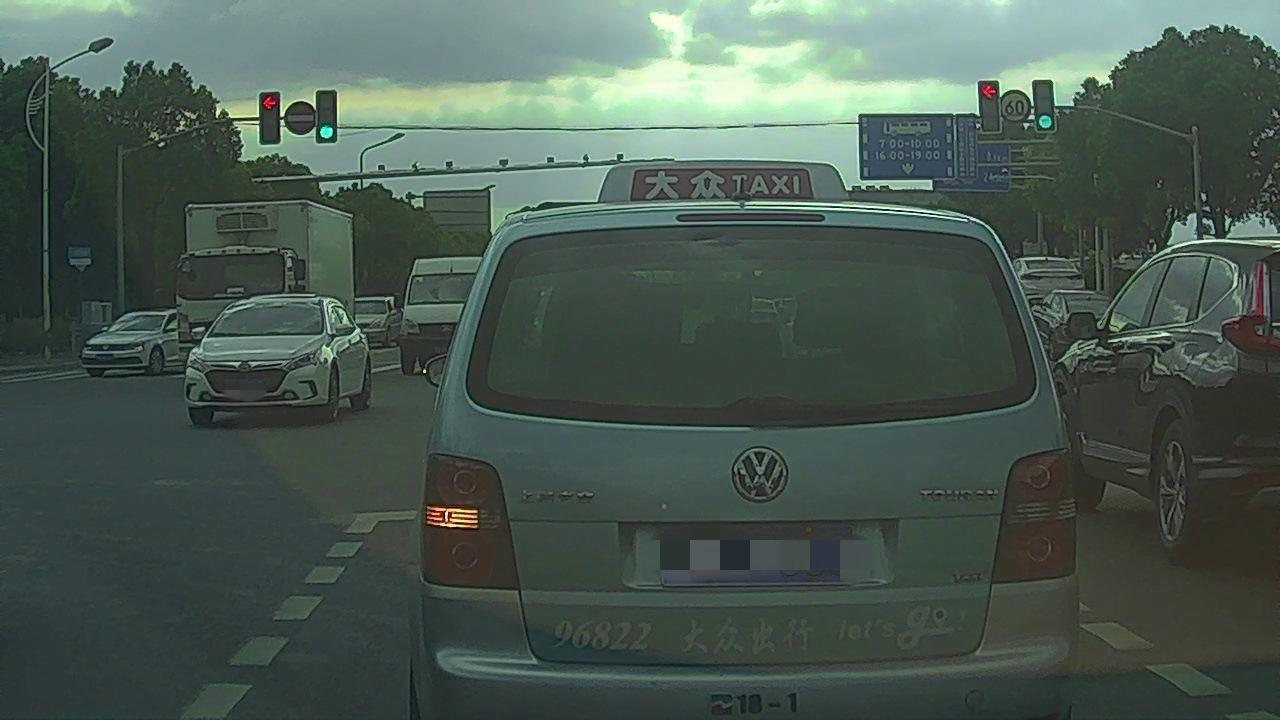traffic_light: (978, 81, 1001, 134), (1034, 79, 1055, 133), (259, 93, 280, 143), (317, 90, 335, 142)
